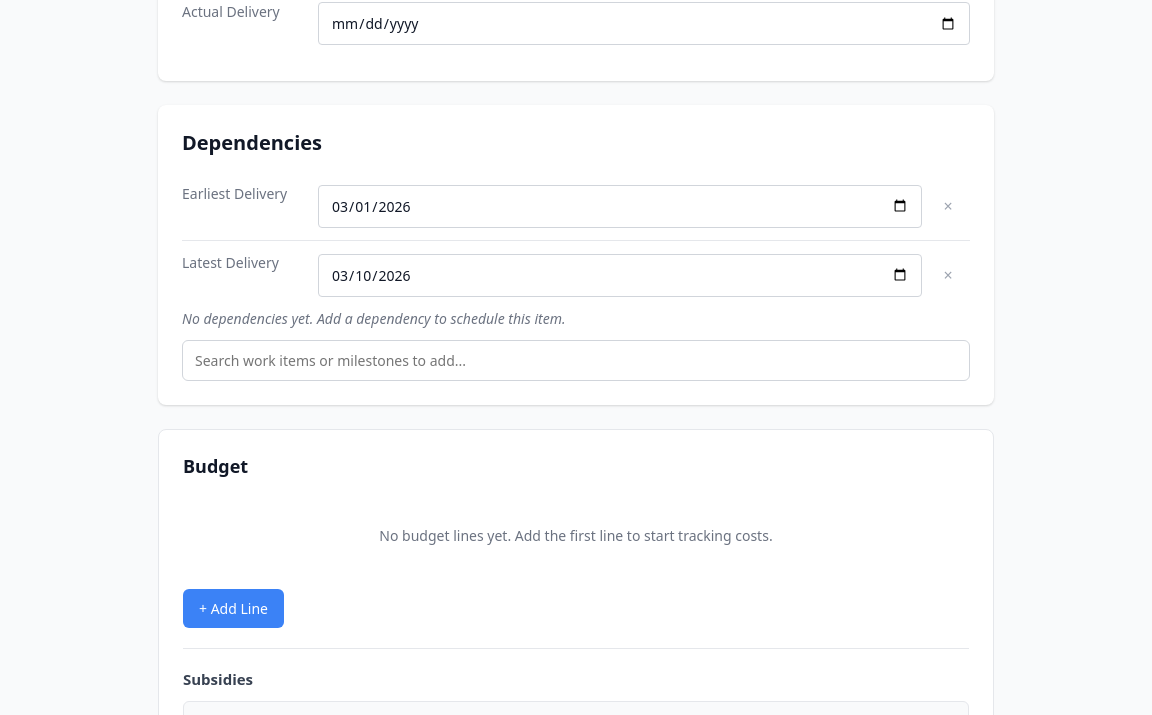
Test case: HouseholdItemDetailPage › area breadcrumb in dep search dropdown (Issue #1239) › shows "No area" in dep search dropdown when work item has null area
(page scrolled)
Type "Found" into the field with test id "dep-search-input" at (576, 360), box left=182, top=340, right=970, bottom=381
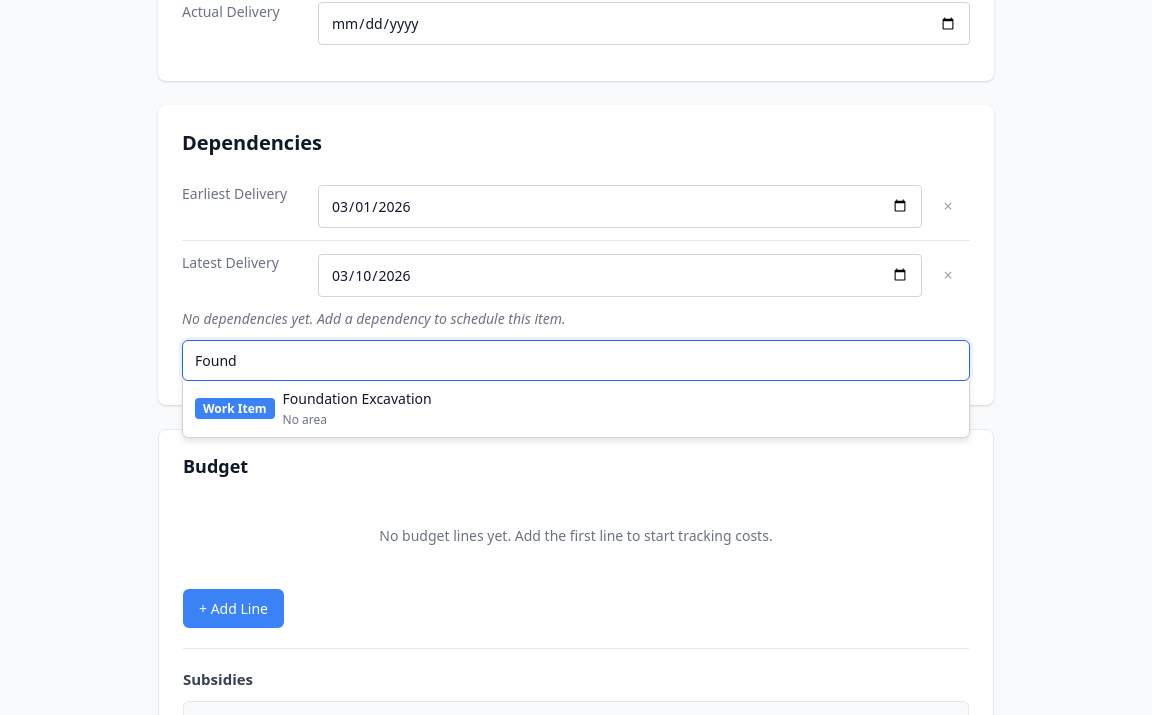
Now the text "Foundation Excavation" is shown, box left=283, top=389, right=432, bottom=408
Now the text "No area" is shown, box left=283, top=411, right=327, bottom=428
